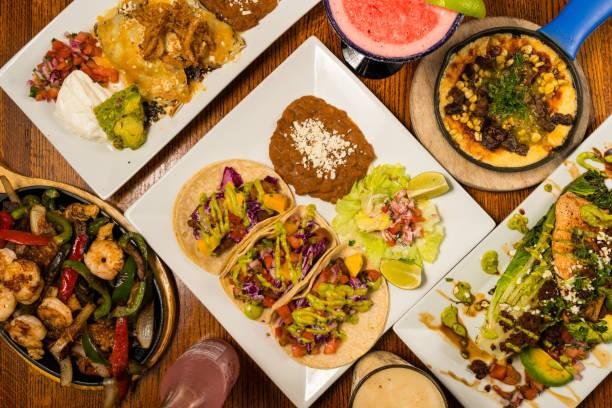Braised Crucian Carp: (106, 28, 512, 407), (374, 101, 611, 407), (0, 0, 323, 213), (3, 180, 175, 392), (404, 16, 603, 194)
